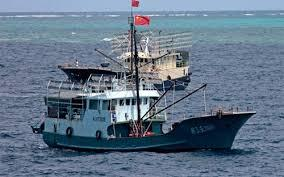Ship: (41, 69, 257, 153), (112, 32, 193, 92)
